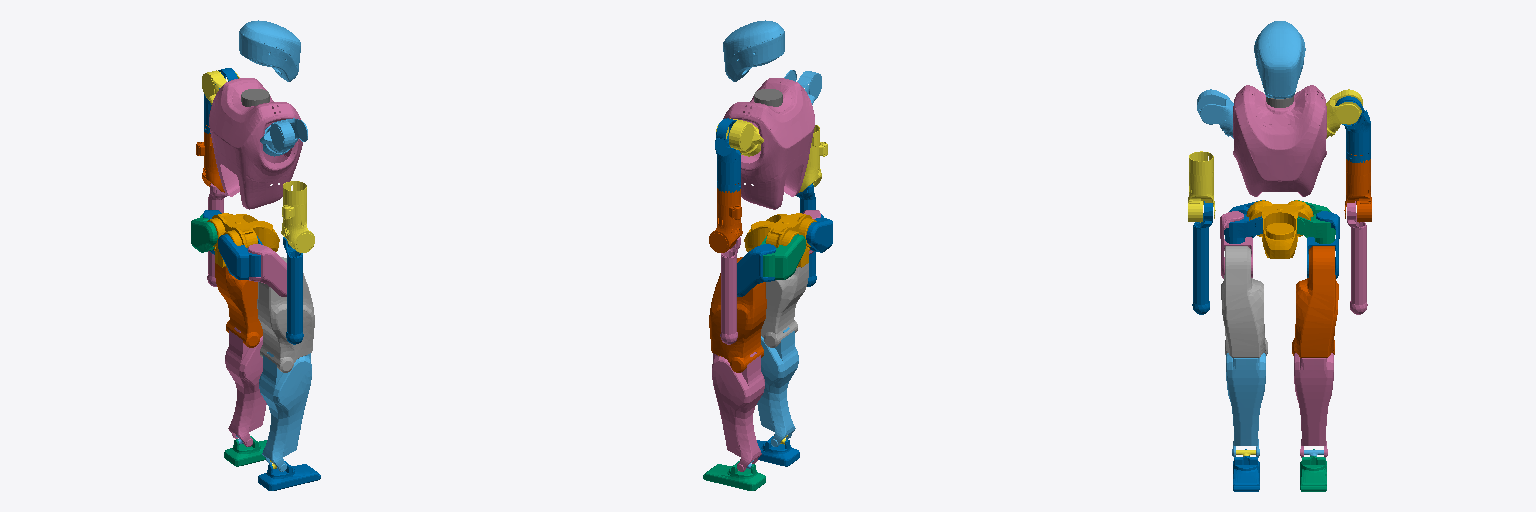
--- Render facts (derived) ---
Views: 3 orthographic renders of the robot side by side, from view 1: azimuth 30°, elevation 25°; view 2: azimuth 150°, elevation 25°; view 3: azimuth 270°, elevation 25°.
Model Alexander with 39 links and 38 joints (23 revolute, 15 fixed), rooted at PELVIS_LINK, posed all joints at 0.
Links seen in each view (by area): view 1: TORSO_LINK, RIGHT_SHIN, RIGHT_THIGH, LEFT_SHIN, HEAD_LINK, LEFT_THIGH, PELVIS_LINK, RIGHT_SHOULDER_Z_LINK, RIGHT_ELBOW_Y_LINK, RIGHT_SHOULDER_Y_LINK, RIGHT_HIP_X_LINK, RIGHT_HIP_Z_LINK (+5 smaller); view 2: TORSO_LINK, LEFT_SHIN, LEFT_THIGH, RIGHT_SHIN, HEAD_LINK, RIGHT_THIGH, PELVIS_LINK, LEFT_ELBOW_Y_LINK, LEFT_SHOULDER_Z_LINK, LEFT_SHOULDER_X_LINK, LEFT_HIP_X_LINK, LEFT_HIP_Z_LINK (+7 smaller); view 3: TORSO_LINK, LEFT_THIGH, RIGHT_THIGH, HEAD_LINK, LEFT_SHIN, RIGHT_SHIN, PELVIS_LINK, LEFT_ELBOW_Y_LINK, RIGHT_ELBOW_Y_LINK, RIGHT_SHOULDER_Z_LINK, LEFT_SHOULDER_Z_LINK, LEFT_SHOULDER_X_LINK (+8 smaller).
Link boxes in pixels (x1=…): TORSO_LINK: x1=209, y1=78, x2=302, y2=209; RIGHT_SHIN: x1=259, y1=352, x2=311, y2=471; RIGHT_THIGH: x1=257, y1=257, x2=314, y2=372; LEFT_SHIN: x1=225, y1=327, x2=266, y2=446; HEAD_LINK: x1=239, y1=20, x2=300, y2=81; LEFT_THIGH: x1=215, y1=263, x2=262, y2=347; PELVIS_LINK: x1=207, y1=213, x2=279, y2=267; RIGHT_SHOULDER_Z_LINK: x1=281, y1=181, x2=314, y2=252; RIGHT_ELBOW_Y_LINK: x1=283, y1=237, x2=303, y2=344; RIGHT_SHOULDER_Y_LINK: x1=260, y1=118, x2=307, y2=156; RIGHT_HIP_X_LINK: x1=218, y1=234, x2=262, y2=279; RIGHT_HIP_Z_LINK: x1=248, y1=244, x2=286, y2=296; TORSO_LINK: x1=723, y1=78, x2=814, y2=209; LEFT_SHIN: x1=712, y1=352, x2=764, y2=471; LEFT_THIGH: x1=709, y1=257, x2=766, y2=372; RIGHT_SHIN: x1=757, y1=327, x2=798, y2=446; HEAD_LINK: x1=723, y1=20, x2=784, y2=81; RIGHT_THIGH: x1=761, y1=263, x2=808, y2=347; PELVIS_LINK: x1=744, y1=213, x2=816, y2=267; LEFT_ELBOW_Y_LINK: x1=720, y1=237, x2=740, y2=344; LEFT_SHOULDER_Z_LINK: x1=709, y1=183, x2=742, y2=252; LEFT_SHOULDER_X_LINK: x1=715, y1=118, x2=740, y2=192; LEFT_HIP_X_LINK: x1=761, y1=234, x2=805, y2=279; LEFT_HIP_Z_LINK: x1=737, y1=244, x2=775, y2=296; TORSO_LINK: x1=1233, y1=85, x2=1326, y2=196; LEFT_THIGH: x1=1292, y1=246, x2=1338, y2=357; RIGHT_THIGH: x1=1221, y1=246, x2=1267, y2=357; HEAD_LINK: x1=1254, y1=21, x2=1305, y2=98; LEFT_SHIN: x1=1294, y1=353, x2=1333, y2=457; RIGHT_SHIN: x1=1226, y1=353, x2=1265, y2=457; PELVIS_LINK: x1=1246, y1=200, x2=1313, y2=258; LEFT_ELBOW_Y_LINK: x1=1347, y1=201, x2=1367, y2=314; RIGHT_ELBOW_Y_LINK: x1=1192, y1=201, x2=1212, y2=314; RIGHT_SHOULDER_Z_LINK: x1=1188, y1=151, x2=1215, y2=222; LEFT_SHOULDER_Z_LINK: x1=1344, y1=154, x2=1371, y2=222; LEFT_SHOULDER_X_LINK: x1=1335, y1=96, x2=1370, y2=162.
Bounding box of the posed robot: 0.3464 × 0.655 × 1.76 m (x, y, z).
Meshes: 21 distinct files referenced, 22 mesh visuals loaded (20 OBJ); not drawn: 1 (reference not matched to a file when rendering).

URDF robot description (Alexander):
<?xml version = "1.0" ?>
<robot name="Alexander">

    <!-- LEFT LEG JOINTS -->
    <joint name="LEFT_HIP_X" type="revolute">
        <origin rpy="0 0 0" xyz="-0.162	0.0595	-0.015"/>
        <axis xyz="1 0 0"/>
        <parent link="PELVIS_LINK"/>
        <child link="LEFT_HIP_X_LINK"/>
        <limit effort="150" lower="-0.3490658504" upper="0.872664626" velocity="9"/>
        <dynamics damping="0.05" friction="0.0"/>
    </joint>
    <joint name="LEFT_HIP_Z" type="revolute">
        <origin rpy="0 0 0" xyz="0.06	0.1	-0.08"/>
        <axis xyz="0 0 1"/>
        <parent link="LEFT_HIP_X_LINK"/>
        <child link="LEFT_HIP_Z_LINK"/>
        <limit effort="60" lower="-0.3490658504" upper="1.0472" velocity="11"/>
        <dynamics damping="0.05" friction="0.0"/>
    </joint>
    <joint name="LEFT_HIP_Y" type="revolute">
        <origin rpy="0 0 0" xyz="0.1045	-0.0573	-0.0525"/>
        <axis xyz="0 1 0"/>
        <parent link="LEFT_HIP_Z_LINK"/>
        <child link="LEFT_THIGH"/>
        <limit effort="200" lower="-2.61799" upper="0.785398" velocity="8"/>
        <dynamics damping="0.05" friction="0.0"/>
    </joint>
    <joint name="LEFT_KNEE_Y" type="revolute">
        <origin rpy="0 0 0" xyz="0	0.018	-0.32"/>
        <axis xyz="0 1 0"/>
        <parent link="LEFT_THIGH"/>
        <child link="LEFT_SHIN"/>
        <limit effort="200" lower="0" upper="2.445206282" velocity="8"/>
        <dynamics damping="0.05" friction="0.0"/>
    </joint>
    <joint name="LEFT_ANKLE_Y" type="revolute">
        <origin rpy="0 0 0" xyz="0	0	-0.41"/>
        <axis xyz="0 1 0"/>
        <parent link="LEFT_SHIN"/>
        <child link="LEFT_ANKLE_Y_LINK"/>
        <limit effort="180" lower="-1.0472" upper="0.523599" velocity="8"/>
        <dynamics damping="0.05" friction="0.0"/>
    </joint>
    <joint name="LEFT_ANKLE_X" type="revolute">
        <origin rpy="0 0 0" xyz="0	0	-0.012"/>
        <axis xyz="1 0 0"/>
        <parent link="LEFT_ANKLE_Y_LINK"/>
        <child link="LEFT_FOOT"/>
        <limit effort="90" lower="-0.436332" upper="0.436332" velocity="8"/>
        <dynamics damping="0.05" friction="0.0"/>
    </joint>

    <!-- RIGHT LEG JOINTS -->
    <joint name="RIGHT_HIP_X" type="revolute">
        <origin rpy="0 0 0" xyz="-0.162	-0.0595	-0.015"/>
        <axis xyz="1 0 0"/>
        <parent link="PELVIS_LINK"/>
        <child link="RIGHT_HIP_X_LINK"/>
        <limit effort="150" lower="-0.872664626" upper="0.3490658504" velocity="9"/>
        <dynamics damping="0.05" friction="0.0"/>
    </joint>
    <joint name="RIGHT_HIP_Z" type="revolute">
        <origin rpy="0 0 0" xyz="0.06	-0.1	-0.08"/>
        <axis xyz="0 0 1"/>
        <parent link="RIGHT_HIP_X_LINK"/>
        <child link="RIGHT_HIP_Z_LINK"/>
        <limit effort="60" lower="-1.0472" upper="0.3490658504" velocity="11"/>
        <dynamics damping="0.05" friction="0.0"/>
    </joint>
    <joint name="RIGHT_HIP_Y" type="revolute">
        <origin rpy="0 0 0" xyz="0.1045	0.0573	-0.0525"/>
        <axis xyz="0 1 0"/>
        <parent link="RIGHT_HIP_Z_LINK"/>
        <child link="RIGHT_THIGH"/>
        <limit effort="200" lower="-2.61799" upper="0.785398" velocity="8"/>
        <dynamics damping="0.05" friction="0.0"/>
    </joint>
    <joint name="RIGHT_KNEE_Y" type="revolute">
        <origin rpy="0 0 0" xyz="0	-0.018	-0.32"/>
        <axis xyz="0 1 0"/>
        <parent link="RIGHT_THIGH"/>
        <child link="RIGHT_SHIN"/>
        <limit effort="200" lower="0" upper="2.445206282" velocity="8"/>
        <dynamics damping="0.05" friction="0.0"/>
    </joint>
    <joint name="RIGHT_ANKLE_Y" type="revolute">
        <origin rpy="0 0 0" xyz="0	0	-0.41"/>
        <axis xyz="0 1 0"/>
        <parent link="RIGHT_SHIN"/>
        <child link="RIGHT_ANKLE_Y_LINK"/>
        <limit effort="180" lower="-1.0472" upper="0.523599" velocity="8"/>
        <dynamics damping="0.05" friction="0.0"/>
    </joint>
    <joint name="RIGHT_ANKLE_X" type="revolute">
        <origin rpy="0 0 0" xyz="0	0	-0.012"/>
        <axis xyz="1 0 0"/>
        <parent link="RIGHT_ANKLE_Y_LINK"/>
        <child link="RIGHT_FOOT"/>
        <limit effort="90" lower="-0.436332" upper="0.436332" velocity="8"/>
        <dynamics damping="0.05" friction="0.0"/>
    </joint>

    <!-- SPINE JOINTS -->
    <joint name="SPINE_Z" type="revolute">
        <origin rpy="0 0 0" xyz="0.0 0 0.018"/> <!-- check with CAD -->
        <axis xyz="0 0 1"/>
        <parent link="PELVIS_LINK"/>
        <child link="TORSO_LINK"/>
        <limit effort="150" lower="-0.5235987756" upper="0.5235987756" velocity="9.0"/>
        <dynamics damping="0.05" friction="0.0"/>
    </joint>

    <!-- LEFT ARM JOINTS -->
    <joint name="LEFT_SHOULDER_Y" type="revolute">
        <origin xyz="-0.015 0.115474 0.352984" rpy="0.698132 0.0 0.0"/>
        <axis xyz="0.0 1.0 0.0"/>
        <parent link="TORSO_LINK"/>
        <child link="LEFT_SHOULDER_Y_LINK"/>
        <limit effort="150.0" lower="-3.141592" upper="1.22173" velocity="9.0"/>
        <dynamics damping="0.05" friction="0.0"/>
    </joint>
    <joint name="LEFT_SHOULDER_X" type="revolute">
        <origin rpy="-0.698132 0.0 0.0" xyz="0.0 0.15676000 -0.01300000"/>
        <axis xyz="1 0 0"/>
        <parent link="LEFT_SHOULDER_Y_LINK"/>
        <child link="LEFT_SHOULDER_X_LINK"/>
        <limit effort="150.0" lower="-0.349066" upper="2.79253" velocity="9.0"/>
        <dynamics damping="0.05" friction="0.0"/>
    </joint>
    <joint name="LEFT_SHOULDER_Z" type="revolute">
        <origin rpy="0.0 0.0 0.0" xyz="0.0 0.035 -0.08"/> <!-- Z translation for elongated upper arm -->
        <axis xyz="0.0 0.0 1.0"/>
        <parent link="LEFT_SHOULDER_X_LINK"/>
        <child link="LEFT_SHOULDER_Z_LINK"/>
        <limit effort="80.0" lower="-1.91986" upper="1.22173" velocity="11.5"/>
        <dynamics damping="0.05" friction="0.0"/>
    </joint>
    <joint name="LEFT_ELBOW_Y" type="revolute">
        <origin rpy="0.0 0.0 0.0" xyz="0.015 0.0 -0.3127"/>
        <axis xyz="0.0 1.0 0.0"/>
        <parent link="LEFT_SHOULDER_Z_LINK"/>
        <child link="LEFT_ELBOW_Y_LINK"/>
        <limit effort="80.0" lower="-2.35619" upper="0.174532925" velocity="11.5"/>
        <dynamics damping="0.05" friction="0.0"/>
    </joint>

    <!-- NECK JOINTS -->
    <joint name="NECK_Z" type="revolute">
        <origin rpy="0 0 0" xyz="-0.015 0 0.450403"/>
        <axis xyz="0 0 1"/>
        <parent link="TORSO_LINK"/>
        <child link="NECK_Z_LINK"/>
        <limit effort="20" lower="-1.5708" upper="1.5708" velocity="20"/>
        <dynamics damping="0.05" friction="0.0"/>
    </joint>
    <joint name="NECK_Y" type="revolute">
        <origin rpy="0 0 0" xyz="0.025 0.01 0.189597"/>
        <axis xyz="0 1 0"/>
        <parent link="NECK_Z_LINK"/>
        <child link="HEAD_LINK"/>
        <limit effort="20" lower="-1.0472" upper="1.0472" velocity="20"/>
        <dynamics damping="0.05" friction="0.0"/>
    </joint>

    <!-- RIGHT ARM JOINTS -->
    <joint name="RIGHT_SHOULDER_Y" type="revolute">
        <origin xyz="-0.015 -0.115474 0.352984" rpy="-0.698132 0.0 0.0"/>
        <axis xyz="0.0 1.0 0.0"/>
        <parent link="TORSO_LINK"/>
        <child link="RIGHT_SHOULDER_Y_LINK"/>
        <limit effort="1000" lower="-3.141592" upper="1.22173" velocity="100"/>
        <dynamics damping="0.05" friction="0.0"/>
    </joint>
    <joint name="RIGHT_SHOULDER_X" type="revolute">
        <origin rpy="0.698132 0.0 0.0" xyz="0.0 -0.15676000 -0.01300000"/>
        <axis xyz="1 0 0"/>
        <parent link="RIGHT_SHOULDER_Y_LINK"/>
        <child link="RIGHT_SHOULDER_X_LINK"/>
        <limit effort="1000" lower="-2.79253" upper="0.349066" velocity="100"/>
        <dynamics damping="0.05" friction="0.0"/>
    </joint>
    <joint name="RIGHT_SHOULDER_Z" type="revolute">
        <origin rpy="0.0 0.0 0.0" xyz="0.0 -0.035 -0.08"/> <!-- Z translation for elongated upper arm -->
        <axis xyz="0.0 0.0 1.0"/>
        <parent link="RIGHT_SHOULDER_X_LINK"/>
        <child link="RIGHT_SHOULDER_Z_LINK"/>
        <limit effort="1000" lower="-1.22173" upper="1.91986" velocity="100"/>
        <dynamics damping="0.05" friction="0.0"/>
    </joint>
    <joint name="RIGHT_ELBOW_Y" type="revolute">
        <origin rpy="0.0 0.0 0.0" xyz="0.015 0.0 -0.3127"/>
        <axis xyz="0.0 1.0 0.0"/>
        <parent link="RIGHT_SHOULDER_Z_LINK"/>
        <child link="RIGHT_ELBOW_Y_LINK"/>
        <limit effort="1000" lower="-2.35619" upper="0.174532925" velocity="100"/>
        <dynamics damping="0.05" friction="0.0"/>
    </joint>

    <!-- LINKS -->
    <link name="PELVIS_LINK">
        <inertial>
            <mass value="9.50083635"/>
            <origin rpy="0 0 0" xyz="-0.08354287 0.00005291 -0.03484828"/>
            <inertia ixx="0.03428688" ixy="0.00001151" ixz="0.00015935" iyy="0.05178848" iyz="0.00004514" izz="0.06001929"/>
        </inertial>
        <visual>
            <geometry>
                <mesh filename="package://alexander_V1_description/meshes/legs/Pelvis.obj"/>
            </geometry>
            <origin rpy="0.0 0.0 0.0" xyz="0.0 0.0 0.0"/>
        </visual>
        <collision name="pelvis_collision">
            <geometry>
                <box size="0.15 0.10 0.12"/>
            </geometry>
            <origin xyz="0.0 0.0 -0.05" rpy="0.0 0.0 0.0"/>
        </collision>
    </link>
    <!-- Pelvis IMU -->
    <joint name="PELVIS_IMU_JOINT" type="fixed">
        <parent link="PELVIS_LINK"/>
        <child link="PELVIS_IMU_LINK"/>
        <origin xyz="-0.08687724 0.01225028 -0.08051472" rpy="-0.01399 -0.013054 1.570796"/>
    </joint>

    <link name="PELVIS_IMU_LINK">
        <inertial>
            <mass value="0.0"/>
            <origin xyz="0 0 0" rpy="0 0 0"/>
            <inertia ixx="0.0" ixy="0.0" ixz="0.0" iyy="0.0" iyz="0.0" izz="0.0"/>
        </inertial>
    </link>

    <gazebo reference="PELVIS_IMU_LINK">
        <sensor name="pelvis_imu" type="imu">
            <always_on>1</always_on>
            <update_rate>1000.0</update_rate>
            <imu>
                <noise>
                    <type>gaussian</type>
                    <rate>
                        <mean>0.0</mean>
                        <stddev>2e-4</stddev>
                        <bias_mean>0.0000075</bias_mean>
                        <bias_stddev>0.0000008</bias_stddev>
                    </rate>
                    <accel>
                        <mean>0.0</mean>
                        <stddev>1.7e-2</stddev>
                        <bias_mean>0.1</bias_mean>
                        <bias_stddev>0.001</bias_stddev>
                    </accel>
                </noise>
            </imu>
        </sensor>
    </gazebo>
    <!-- end pelvis imu -->

    <!-- LEFT LEG LINKS -->
    <link name="LEFT_HIP_X_LINK">
        <inertial>
            <mass value="2.32977961"/>
            <origin rpy="0 0 0" xyz="0.04350911	0.08708606 -0.03525761"/>
            <inertia ixx="0.00467452" ixy="-0.00058626" ixz="0.00013124" iyy="0.00516613" iyz="0.00048141" izz="0.00553124"/>
        </inertial>
        <visual>
            <geometry>
                <mesh filename="package://alexander_V1_description/meshes/legs/LeftHipRollLink.obj"/>
            </geometry>
            <origin rpy="0.0 0.0 0.0" xyz="0.0 0.0 0.0"/>
        </visual>
        <collision name="left_hip_x_collision">
            <geometry>
                <box size="0.02 0.12 0.10"/>
            </geometry>
            <origin rpy="0.0 0.0 0.0" xyz="-0.02 0.02 0.0"/>
        </collision>
    </link>

    <!-- LeftHipRollIMU-->
    <link name="LEFT_HIP_X_IMU_LINK">
        <inertial>
            <mass value="0"/>
            <origin rpy="0 0 0" xyz="0 0 0"/>
            <inertia ixx="0.0" ixy="0.0" ixz="0.0" iyy="0.0" iyz="0.0" izz="0.0"/>
        </inertial>
    </link>
    <joint name="LEFT_HIP_X_IMU_JOINT" type="fixed">
        <origin rpy="-1.570796 0 1.570796" xyz="-0.01922309 0.10145013 -0.01488788"/>
        <axis xyz="0 0 1"/>
        <parent link="LEFT_HIP_X_LINK"/>
        <child link="LEFT_HIP_X_IMU_LINK"/>
    </joint>
    <gazebo reference="LEFT_HIP_X_IMU_JOINT">
        <sensor name="left_hip_x_imu" type="imu">
            <always_on>true</always_on>
            <imu>
                <noise>
                    <type>gaussian</type>
                    <rate>
                        <mean>0</mean>
                        <stddev>0.0002</stddev>
                        <bias_mean>7.5e-06</bias_mean>
                        <bias_stddev>8e-07</bias_stddev>
                    </rate>
                    <accel>
                        <mean>0</mean>
                        <stddev>0.017</stddev>
                        <bias_mean>0.1</bias_mean>
                        <bias_stddev>0.001</bias_stddev>
                    </accel>
                </noise>
            </imu>
        </sensor>
    </gazebo>

    <link name="LEFT_HIP_Z_LINK">
        <inertial>
            <mass value="0.77281362"/>
            <origin rpy="0 0 0" xyz="0.04549595	-0.00525571	-0.00937454"/>
            <inertia ixx="0.00317639" ixy="0.00005807" ixz="0.00080598" iyy="0.00345182" iyz="0.00047441" izz="0.00313245"/>
        </inertial>
        <visual>
            <geometry>
                <mesh filename="package://alexander_V1_description/meshes/legs/LeftHipYawLink.obj"/>
            </geometry>
            <origin rpy="0.0 0.0 0.0" xyz="0 0 0"/>
        </visual>
    </link>
    <link name="LEFT_THIGH">
        <inertial>
            <mass value="7.75"/><!-- CAD Mass 6.31087157 (Hacked April 1 2025 to match IRL Scale of whole robot) -->
            <origin rpy="0 0 0" xyz="0.01417302	0.03268781	-0.10548314"/>
            <inertia ixx="0.09264028" ixy="0.00038532" ixz="0.00916409" iyy="0.09733033" iyz="-0.0043516" izz="0.02803877"/>
        </inertial>
        <visual>
            <geometry>
                <mesh filename="package://alexander_V1_description/meshes/legs/LeftThigh.obj"/>
            </geometry>
            <origin rpy="0.0 0.0 0.0" xyz="0 0 0"/>
        </visual>
        <collision name="left_thigh_collision">
            <geometry>
                <box size="0.16 0.13 0.29"/> <!-- width (X), depth (Y), height (Z) -->
            </geometry>
            <origin rpy="0.0 0.0 0.0" xyz="0.03 0.03 -0.15"/> <!-- Centered along thigh -->
        </collision>
    </link>
    <link name="LEFT_SHIN">
        <inertial>
            <mass value="6.31087157"/><!-- CAD Mass 6.31087157 (Hacked April 1 2025 to match IRL Scale of whole robot) -->
            <origin rpy="0 0 0" xyz="0.03807965	-0.00108105	-0.12410027"/>
            <inertia ixx="0.08823148" ixy="-0.00054706" ixz="-0.00634132" iyy="0.09163264" iyz="0.00002714" izz="0.01569601"/>
        </inertial>
        <visual>
            <geometry>
                <mesh filename="package://alexander_V1_description/meshes/legs/LeftShin.obj"/>
            </geometry>
            <origin rpy="0.0 0.0 0.0" xyz="0 0 0"/>
        </visual>
        <collision name="left_shin_collision">
            <geometry>
                <cylinder radius="0.08" length="0.3"/>  <!-- Adjust based on shin dimensions -->
            </geometry>
            <origin rpy="0.0 0.0 0.0" xyz="0.04 0.0 -0.14"/> <!-- Centered along shin -->
        </collision>
    </link>

    <!-- LeftThighIMU-->
    <link name="LEFT_THIGH_IMU_LINK">
        <inertial>
            <mass value="0"/>
            <origin rpy="0 0 0" xyz="0 0 0"/>
            <inertia ixx="0.0" ixy="0.0" ixz="0.0" iyy="0.0" iyz="0.0" izz="0.0"/>
        </inertial>
    </link>
    <joint name="LEFT_THIGH_IMU_JOINT" type="fixed">
        <origin rpy="1.6947717585 0 1.570796" xyz="0.10004 0.03746 -0.21194"/>
        <axis xyz="0 0 1"/>
        <parent link="LEFT_THIGH"/>
        <child link="LEFT_THIGH_IMU_LINK"/>
    </joint>
    <gazebo reference="LEFT_THIGH_IMU_LINK">
        <sensor name="left_thigh_imu" type="imu">
            <always_on>true</always_on>
            <imu>
                <noise>
                    <type>gaussian</type>
                    <rate>
                        <mean>0</mean>
                        <stddev>0.0002</stddev>
                        <bias_mean>7.5e-06</bias_mean>
                        <bias_stddev>8e-07</bias_stddev>
                    </rate>
                    <accel>
                        <mean>0</mean>
                        <stddev>0.017</stddev>
                        <bias_mean>0.1</bias_mean>
                        <bias_stddev>0.001</bias_stddev>
                    </accel>
                </noise>
            </imu>
        </sensor>
    </gazebo>

    <!-- LeftShinIMU-->
    <link name="LEFT_SHIN_IMU_LINK">
        <inertial>
            <mass value="0"/>
            <origin rpy="0 0 0" xyz="0 0 0"/>
            <inertia ixx="0.0" ixy="0.0" ixz="0.0" iyy="0.0" iyz="0.0" izz="0.0"/>
        </inertial>
    </link>
    <joint name="LEFT_SHIN_IMU_JOINT" type="fixed">
        <origin rpy="1.403695170631842 0 -1.570796" xyz="0.05655120 0.00084826 -0.15664831"/>
        <axis xyz="0 0 1"/>
        <parent link="LEFT_SHIN"/>
        <child link="LEFT_SHIN_IMU_LINK"/>
    </joint>
    <gazebo reference="LEFT_SHIN_IMU_LINK">
        <sensor name="left_shin_imu" type="imu">
            <always_on>true</always_on>
            <imu>
                <noise>
                    <type>gaussian</type>
                    <rate>
                        <mean>0</mean>
                        <stddev>0.0002</stddev>
                        <bias_mean>7.5e-06</bias_mean>
                        <bias_stddev>8e-07</bias_stddev>
                    </rate>
                    <accel>
                        <mean>0</mean>
                        <stddev>0.017</stddev>
                        <bias_mean>0.1</bias_mean>
                        <bias_stddev>0.001</bias_stddev>
                    </accel>
                </noise>
            </imu>
        </sensor>
    </gazebo>

    <link name="LEFT_ANKLE_Y_LINK">
        <inertial>
            <mass value="0.05045632"/>
            <origin rpy="0 0 0" xyz="2.94E-07	2.22E-07	-0.00462997"/>
            <inertia ixx="0.00001733" ixy="2.12E-10" ixz="-1.26E-10" iyy="0.00000714" iyz="-2.02E-11" izz="0.00001851"/>
        </inertial>
        <visual>
            <geometry>
                <mesh filename="package://alexander_V1_description/meshes/legs/AnklePitchLink.obj"/>
            </geometry>
            <origin rpy="0.0 0.0 0.0" xyz="0 0 0"/>
        </visual>
    </link>
    <link name="LEFT_FOOT">
        <inertial>
            <mass value="1.28288609"/>
            <origin rpy="0 0 0" xyz="0.03793372	-0.00000219	-0.0443663"/>
            <inertia ixx="0.00131328" ixy="0.00001057" ixz="0.00036242" iyy="0.00385286" iyz="-0.0000069" izz="0.00406301"/>
        </inertial>
        <visual>
            <geometry>
                <mesh filename="package://alexander_V1_description/meshes/legs/Foot.obj"/>
            </geometry>
            <origin rpy="0.0 0.0 0.0" xyz="0 0 0"/>
        </visual>
        <collision name="left_foot_collision">
            <geometry>
                <box size="0.22 0.1 0.02"/>
            </geometry>
            <origin rpy="0 0 0" xyz="0.05 0 -0.06"/>
        </collision>
    </link>

    <!-- LeftFootIMU-->
    <link name="LEFT_FOOT_IMU_LINK">
        <inertial>
            <mass value="0"/>
            <origin rpy="0 0 0" xyz="0 0 0"/>
            <inertia ixx="0.0" ixy="0.0" ixz="0.0" iyy="0.0" iyz="0.0" izz="0.0"/>
        </inertial>
    </link>
    <joint name="LEFT_FOOT_IMU_JOINT" type="fixed">
        <origin rpy="0 0 1.570796" xyz="-0.03575526 0.01180178 -0.04979705"/>
        <axis xyz="0 0 1"/>
        <parent link="LEFT_FOOT"/>
        <child link="LEFT_FOOT_IMU_LINK"/>
    </joint>
    <gazebo reference="LEFT_FOOT_IMU_LINK">
        <sensor name="left_foot_imu" type="imu">
            <always_on>true</always_on>
            <imu>
                <noise>
                    <type>gaussian</type>
                    <rate>
                        <mean>0</mean>
                        <stddev>0.0002</stddev>
                        <bias_mean>7.5e-06</bias_mean>
                        <bias_stddev>8e-07</bias_stddev>
                    </rate>
                    <accel>
                        <mean>0</mean>
                        <stddev>0.017</stddev>
                        <bias_mean>0.1</bias_mean>
                        <bias_stddev>0.001</bias_stddev>
                    </accel>
                </noise>
            </imu>
        </sensor>
    </gazebo>

    <!-- RIGHT LEG LINKS -->
    <link name="RIGHT_HIP_X_LINK">
        <inertial>
            <mass value="2.32977248"/>
            <origin rpy="0 0 0" xyz="0.04351957	-0.08688935	-0.03525357"/>
            <inertia ixx="0.00467576" ixy="0.00061004" ixz="0.00013038" iyy="0.00516385" iyz="-0.00047381" izz="0.00552901"/>
        </inertial>
        <visual>
            <geometry>
                <mesh filename="package://alexander_V1_description/meshes/legs/RightHipRollLink.obj"/>
            </geometry>
            <origin rpy="0.0 0.0 0.0" xyz="0.0 0.0 0.0"/>
        </visual>
        <collision name="right_hip_x_collision">
            <geometry>
                <box size="0.02 0.12 0.10"/>
            </geometry>
            <origin rpy="0.0 0.0 0.0" xyz="-0.02 -0.02 0.0"/>
        </collision>
    </link>

    <!-- RightHipRollIMU-->
    <link name="RIGHT_HIP_X_IMU_LINK">
        <inertial>
            <mass value="0"/>
            <origin rpy="0 0 0" xyz="0 0 0"/>
            <inertia ixx="0.0" ixy="0.0" ixz="0.0" iyy="0.0" iyz="0.0" izz="0.0"/>
        </inertial>
    </link>
    <joint name="RIGHT_HIP_ROLL_IMU_JOINT" type="fixed">
        <origin rpy="-1.570796 0 1.570796" xyz="-0.01922309 -0.07694987 -0.01488788"/>
        <axis xyz="0 0 1"/>
        <parent link="RIGHT_HIP_X_LINK"/>
        <child link="RIGHT_HIP_X_IMU_LINK"/>
    </joint>
    <gazebo reference="RIGHT_HIP_X_IMU_LINK">
        <sensor name="right_hip_x_imu" type="imu">
            <always_on>true</always_on>
            <imu>
                <noise>
                    <type>gaussian</type>
                    <rate>
                        <mean>0</mean>
                        <stddev>0.0002</stddev>
                        <bias_mean>7.5e-06</bias_mean>
                        <bias_stddev>8e-07</bias_stddev>
                    </rate>
                    <accel>
                        <mean>0</mean>
                        <stddev>0.017</stddev>
                        <bias_mean>0.1</bias_mean>
                        <bias_stddev>0.001</bias_stddev>
                    </accel>
                </noise>
            </imu>
        </sensor>
    </gazebo>

    <link name="RIGHT_HIP_Z_LINK">
        <inertial>
            <mass value="0.77281055"/>
            <origin rpy="0 0 0" xyz="0.04549274	0.00525784	-0.00937505"/>
            <inertia ixx="0.00317639" ixy="-0.00005765" ixz="0.00080587" iyy="0.00345166" iyz="-0.00047466" izz="0.00313223"/>
        </inertial>
        <visual>
            <geometry>
                <mesh filename="package://alexander_V1_description/meshes/legs/RightHipYawLink.obj"/>
            </geometry>
            <origin rpy="0.0 0.0 0.0" xyz="0 0 0"/>
        </visual>
    </link>
    <link name="RIGHT_THIGH">
        <inertial>
            <mass value="7.75"/><!-- CAD Mass 6.31087157 (Hacked April 1 2025 to match IRL Scale of whole robot) -->
            <origin rpy="0 0 0" xyz="0.01411846	-0.03282392	-0.10542795"/>
            <inertia ixx="0.09273162" ixy="-0.00026689" ixz="0.00921343" iyy="0.09738701" iyz="0.00422485" izz="0.02802165"/>
        </inertial>
        <visual>
            <geometry>
                <mesh filename="package://alexander_V1_description/meshes/legs/RightThigh.obj"/>
            </geometry>
            <origin rpy="0.0 0.0 0.0" xyz="0 0 0"/>
        </visual>
        <collision name="right_thigh_collision">
            <geometry>
                <box size="0.16 0.13 0.29"/><!-- width (X), depth (Y), height (Z) -->
            </geometry>
            <origin rpy="0.0 0.0 0.0" xyz="0.03 -0.03 -0.15"/>
        </collision>
    </link>

    <!-- RightThighIMU-->
    <link name="RIGHT_THIGH_IMU_LINK">
        <inertial>
            <mass value="0"/>
            <origin rpy="0 0 0" xyz="0 0 0"/>
            <inertia ixx="0.0" ixy="0.0" ixz="0.0" iyy="0.0" iyz="0.0" izz="0.0"/>
        </inertial>
    </link>
    <joint name="RIGHT_THIGH_IMU_JOINT" type="fixed">
        <origin rpy="1.6947717585 0 1.570796" xyz="0.10003618 -0.033541826 -0.21194191"/>
        <axis xyz="0 0 1"/>
        <parent link="RIGHT_THIGH"/>
        <child link="RIGHT_THIGH_IMU_LINK"/>
    </joint>
    <gazebo reference="RIGHT_THIGH_IMU_LINK">
        <sensor name="right_thigh_imu" type="imu">
            <always_on>true</always_on>
            <imu>
                <noise>
                    <type>gaussian</type>
                    <rate>
                        <mean>0</mean>
                        <stddev>0.0002</stddev>
                        <bias_mean>7.5e-06</bias_mean>
                        <bias_stddev>8e-07</bias_stddev>
                    </rate>
                    <accel>
                        <mean>0</mean>
                        <stddev>0.017</stddev>
                        <bias_mean>0.1</bias_mean>
                        <bias_stddev>0.001</bias_stddev>
                    </accel>
                </noise>
            </imu>
        </sensor>
    </gazebo>

    <link name="RIGHT_SHIN">
        <inertial>
            <mass value="6.31087157"/><!-- CAD Mass 6.31087157 (Hacked April 1 2025 to match IRL Scale of whole robot) -->
            <origin rpy="0 0 0" xyz="0.03807648	0.00113375	-0.12408765"/>
            <inertia ixx="0.08705693" ixy="0.00057277" ixz="-0.00674654" iyy="0.090231" iyz="0.00028332" izz="0.01554032"/>
        </inertial>
        <visual>
            <geometry>
                <mesh filename="package://alexander_V1_description/meshes/legs/RightShin.obj"/>
            </geometry>
            <origin rpy="0.0 0.0 0.0" xyz="0 0 0"/>
        </visual>
        <collision name="right_shin_collision">
            <geometry>
                <cylinder radius="0.08" length="0.3"/>
            </geometry>
            <origin rpy="0 0 0" xyz="0.04 0 -0.14"/> <!-- centered along the shin length -->
        </collision>
    </link>

    <!-- RightShinIMU-->
    <link name="RIGHT_SHIN_IMU_LINK">
        <inertial>
            <mass value="0"/>
            <origin rpy="0 0 0" xyz="0 0 0"/>
            <inertia ixx="0.0" ixy="0.0" ixz="0.0" iyy="0.0" iyz="0.0" izz="0.0"/>
        </inertial>
    </link>
    <joint name="RIGHT_SHIN_IMU_JOINT" type="fixed">
        <origin rpy="1.403695170631842 0 -1.570796" xyz="0.05673025 -0.00875818 -0.15674961"/>
        <axis xyz="0 0 1"/>
        <parent link="RIGHT_SHIN"/>
        <child link="RIGHT_SHIN_IMU_LINK"/>
    </joint>
    <gazebo reference="RIGHT_SHIN_IMU_LINK">
        <sensor name="right_shin_imu" type="imu">
            <always_on>true</always_on>
            <imu>
                <noise>
                    <type>gaussian</type>
                    <rate>
                        <mean>0</mean>
                        <stddev>0.0002</stddev>
                        <bias_mean>7.5e-06</bias_mean>
                        <bias_stddev>8e-07</bias_stddev>
                    </rate>
                    <accel>
                        <mean>0</mean>
                        <stddev>0.017</stddev>
                        <bias_mean>0.1</bias_mean>
                        <bias_stddev>0.001</bias_stddev>
                    </accel>
                </noise>
            </imu>
        </sensor>
    </gazebo>

    <link name="RIGHT_ANKLE_Y_LINK">
        <inertial>
            <mass value="0.05045632"/>
            <origin rpy="0 0 0" xyz="2.94E-07	2.22E-07	-0.00462997"/>
            <inertia ixx="0.00001733" ixy="2.12E-10" ixz="-1.26E-10" iyy="0.00000714" iyz="-2.02E-11" izz="0.00001851"/>
        </inertial>
        <visual>
            <geometry>
                <mesh filename="package://alexander_V1_description/meshes/legs/AnklePitchLink.obj"/>
            </geometry>
            <origin rpy="0.0 0.0 0.0" xyz="0 0 0"/>
        </visual>
    </link>
    <link name="RIGHT_FOOT">
        <inertial>
            <mass value="1.28288609"/>
            <origin rpy="0 0 0" xyz="0.03793372	-0.00000219	-0.0443663"/>
            <inertia ixx="0.00131328" ixy="0.00001057" ixz="0.00036242" iyy="0.00385286" iyz="-0.0000069" izz="0.00406301"/>
        </inertial>
        <visual>
            <geometry>
                <mesh filename="package://alexander_V1_description/meshes/legs/Foot.obj"/>
            </geometry>
            <origin rpy="0.0 0.0 0.0" xyz="0 0 0"/>
        </visual>
        <collision name="right_foot_collision">
            <geometry>
                <box size="0.22 0.1 0.02"/>
            </geometry>
            <origin rpy="0 0 0" xyz="0.05 0 -0.06"/>
        </collision>
    </link>

    <!-- RightFootIMU-->
    <link name="RIGHT_FOOT_IMU_LINK">
        <inertial>
            <mass value="0"/>
            <origin rpy="0 0 0" xyz="0 0 0"/>
            <inertia ixx="0.0" ixy="0.0" ixz="0.0" iyy="0.0" iyz="0.0" izz="0.0"/>
        </inertial>
    </link>
    <joint name="RIGHT_FOOT_IMU_JOINT" type="fixed">
        <origin rpy="0 0 1.570796" xyz="-0.03575526 0.01180178 -0.04979705"/>
        <axis xyz="0 0 1"/>
        <parent link="RIGHT_FOOT"/>
        <child link="RIGHT_FOOT_IMU_LINK"/>
    </joint>
    <gazebo reference="RIGHT_FOOT_IMU_LINK">
        <sensor name="right_foot_imu" type="imu">
            <always_on>true</always_on>
            <imu>
                <noise>
                    <type>gaussian</type>
                    <rate>
                        <mean>0</mean>
                        <stddev>0.0002</stddev>
                        <bias_mean>7.5e-06</bias_mean>
                        <bias_stddev>8e-07</bias_stddev>
                    </rate>
                    <accel>
                        <mean>0</mean>
                        <stddev>0.017</stddev>
                        <bias_mean>0.1</bias_mean>
                        <bias_stddev>0.001</bias_stddev>
                    </accel>
                </noise>
            </imu>
        </sensor>
    </gazebo>

    <!-- SPINE LINKS -->
    <link name="TORSO_LINK">
        <inertial>
            <mass value="7.0081"/> <!-- Original was 4.352, measured mass of whole robot and put delta into this torso mass (08/12/2025 Stefan and Robert)-->
            <origin rpy="0 0 0" xyz="-0.034 0.0 0.297"/>
            <inertia ixx="0.077" ixy="9.64E-06" ixz="0.008" iyy="0.068" iyz="7.24E-06" izz="0.033"/>
        </inertial>
        <visual>
            <geometry>
                <mesh filename="package://alexander_V1_description/meshes/torso.obj"/>
            </geometry>
            <origin rpy="0.0 0.0 0.0" xyz="0.0 0.0 0.105063"/>
        </visual>
        <collision name="torso_collision">
            <geometry>
                <box size="0.275 0.33 0.43"/>
            </geometry>
            <origin xyz="-0.01 0.00 0.3" rpy="0 0 0"/>
        </collision>
    </link>

    <!-- TORSO IMU -->
    <joint name="TORSO_IMU_JOINT" type="fixed">
        <origin rpy="0.0 0.0 -1.5708" xyz="-0.009753 -0.01075 0.373405"/>
        <axis xyz="0 0 1"/>
        <parent link="TORSO_LINK"/>
        <child link="TORSO_IMU_LINK"/>
    </joint>

    <link name="TORSO_IMU_LINK">
        <inertial>
            <mass value="0"/>
            <origin rpy="0 0 0" xyz="0 0 0"/>
            <inertia ixx="0.0" ixy="0.0" ixz="0.0" iyy="0.0" iyz="0.0" izz="0.0"/>
        </inertial>
    </link>

    <gazebo reference="TORSO_IMU_LINK">
        <sensor name="torso_imu" type="imu">
            <always_on>true</always_on>
            <imu>
                <noise>
                    <type>gaussian</type>
                    <rate>
                        <mean>0</mean>
                        <stddev>0.0002</stddev>
                        <bias_mean>7.5e-06</bias_mean>
                        <bias_stddev>8e-07</bias_stddev>
                    </rate>
                    <accel>
                        <mean>0</mean>
                        <stddev>0.017</stddev>
                        <bias_mean>0.1</bias_mean>
                        <bias_stddev>0.001</bias_stddev>
                    </accel>
                </noise>
            </imu>
        </sensor>
    </gazebo>

    <!-- NECK & Head LINKS -->
    <link name="NECK_Z_LINK">
        <inertial>
            <mass value="1.141"/>
            <origin rpy="0 0 0" xyz="0.007143 0.006943 0.109823"/>
            <inertia ixx="0.007475898" ixy="-0.000075723" ixz="-0.000745362" iyy="0.007407578" iyz="-0.000436948" izz="0.00109269"/>
        </inertial>
        <visual>
            <geometry>
                <cylinder radius="0.05" length="0.1"/>
            </geometry>
            <material name="gray">
                <color rgba="0.5 0.5 0.5 1.0"/>
            </material>
            <origin rpy="0.0 0.0 0.0" xyz="0 0 0.0"/>
        </visual>
    </link>
    <link name="HEAD_LINK">
        <inertial>
            <mass value="1.677"/>
            <origin rpy="0 0 0" xyz="0.03237 -0.013568 0.007163"/>
            <inertia ixx="0.006026191" ixy="-0.000197484" ixz="0.001813659" iyy="0.008182071" iyz="-0.000042529" izz="0.00644909"/>
        </inertial>
        <visual>
            <geometry>
                <mesh filename="package://alexander_V1_description/meshes/ALX02_01_A02_HeadLink.obj"/>
            </geometry>
            <origin rpy="0.0 0.0 0.0" xyz="0.0 0.0 0.0"/>
        </visual>
        <collision name="head_collision">
            <origin xyz="0.03237 -0.013568 0.017163" rpy="0 0 0"/>
            <geometry>
                <sphere radius="0.13"/>
            </geometry>
        </collision>
    </link>

    <!-- HEAD IMU -->
    <joint name="HEAD_IMU_JOINT" type="fixed">
        <origin rpy="0.56723 0.0 1.5708 " xyz="0.040556 -0.014155 0.057016"/>
        <axis xyz="0 0 1"/>
        <parent link="HEAD_LINK"/>
        <child link="HEAD_IMU_LINK"/>
    </joint>

    <link name="HEAD_IMU_LINK">
        <inertial>
            <mass value="0"/>
            <origin rpy="0 0 0" xyz="0 0 0"/>
            <inertia ixx="0.0" ixy="0.0" ixz="0.0" iyy="0.0" iyz="0.0" izz="0.0"/>
        </inertial>
    </link>

    <gazebo reference="HEAD_IMU_LINK">
        <sensor name="head_imu" type="imu">
            <always_on>true</always_on>
            <imu>
                <noise>
                    <type>gaussian</type>
                    <rate>
                        <mean>0</mean>
                        <stddev>0.0002</stddev>
                        <bias_mean>7.5e-06</bias_mean>
                        <bias_stddev>8e-07</bias_stddev>
                    </rate>
                    <accel>
                        <mean>0</mean>
                        <stddev>0.017</stddev>
                        <bias_mean>0.1</bias_mean>
                        <bias_stddev>0.001</bias_stddev>
                    </accel>
                </noise>
            </imu>
        </sensor>
    </gazebo>

    <!-- Left Arm -->
    <link name="LEFT_SHOULDER_Y_LINK">
        <inertial>
            <mass value="2.99"/>
            <origin rpy="0 0 0" xyz="-0.00264 0.12135 -0.006824"/>
            <inertia ixx="0.0111046" ixy="0.0002882" ixz="-0.000054" iyy="0.0051699" iyz="0.0009318" izz="0.01176"/>
        </inertial>
        <visual>
            <geometry>
                <mesh filename="package://alexander_V1_description/meshes/cycloidal_arm/LeftShoulderPitchLink.obj"/>
            </geometry>
            <origin rpy="0.0 0.0 0.0" xyz="0.0 0.0 0.0"/>
        </visual>
    </link>
    <link name="LEFT_SHOULDER_X_LINK"> <!-- Using long biceps to match current physical robot -->
        <inertial>
            <mass value="1.17068"/>
            <origin rpy="0 0 0" xyz="0.01053 0.02124 -0.1052690"/>
            <inertia ixx="0.00787035" ixy="1.667e-4" ixz="-0.00075945" iyy="0.00727481" iyz="0.000988837" izz="0.00182144"/>
        </inertial>
        <visual>
            <geometry>
                <mesh filename="package://alexander_V1_description/meshes/cycloidal_arm/LeftShoulderRollLink_longBicep.obj"/>
            </geometry>
            <origin rpy="0.0 0.0 0.0" xyz="0.0 0.0 0.0"/>
        </visual>
    </link>
    <link name="LEFT_SHOULDER_Z_LINK">
        <inertial>
            <mass value="2.91"/>
            <origin rpy="0 0 0" xyz="0.00510403 0.00274 -0.21745"/>
            <inertia ixx="0.0267829" ixy="-0.000011" ixz="0.0015998" iyy="0.0265514" iyz="0.0004426" izz="0.003052"/>
        </inertial>
        <visual>
            <geometry>
                <mesh filename="package://alexander_V1_description/meshes/cycloidal_arm/LeftShoulderYawLink.obj"/>
            </geometry>
            <origin rpy="0.0 0.0 0.0" xyz="0.0 0.0 0.0867"/>
        </visual>
        <collision name="left_shoulder_z_collision">
            <origin xyz="0 0 -0.12" rpy="0 0 0"/>
            <geometry>
                <cylinder radius="0.05" length="0.26"/>
            </geometry>
        </collision>
    </link>
    <link name="LEFT_ELBOW_Y_LINK"> <!-- Using nub forearm to match current physical robot -->
        <inertial>
            <!-- Normal forearm nub -->
            <mass value="0.616"/>
            <origin rpy="0 0 0" xyz="-0.01090935 -0.01147189 -0.10388715"/>
            <inertia ixx="0.00760733" ixy="2.242e-5" ixz="-2.583e-4" iyy="0.00767556" iyz="0.00061995" izz="4.554e-4"/>

            <!-- 12lbs dumbbell -->
            <!--<mass value="5.9"/>-->
            <!--<origin rpy="0 0 0" xyz="0.05 0.0 -0.225"/>-->
            <!--<inertia ixx="0.05" ixy="2.242e-5" ixz="-2.583e-4" iyy="0.015" iyz="0.00061995" izz="0.05" />-->
        </inertial>
        <visual>
            <geometry>
                <mesh filename="package://alexander_V1_description/meshes/cycloidal_arm/LEFT_ELBOW_PITCH_LINK_413mm_LENGTH.obj"/>
            </geometry>
            <origin rpy="0.0 0.0 0.0" xyz="0.0 0.0 0.0"/>
        </visual>
        <collision name="left_elbow_y_collision">
            <origin xyz="-0.013 0.0 -0.24" rpy="0 0 0"/>
            <geometry>
                <cylinder radius="0.033" length="0.34"/>
            </geometry>
        </collision>
    </link>

    <!-- Left arm IMU Information -->
    <link name="LEFT_SHOULDER_Y_IMU_LINK">
        <inertial>
            <mass value="0"/>
            <origin rpy="0 0 0" xyz="0 0 0"/>
            <inertia ixx="0.0" ixy="0.0" ixz="0.0" iyy="0.0" iyz="0.0" izz="0.0"/>
        </inertial>
    </link>
    <!-- LEFT SHOULDER Y IMU Information -->
    <joint name="LEFT_SHOULDER_Y_IMU_JOINT" type="fixed">
        <origin rpy="-1.570796 1.570796 0" xyz="0.0174 0.06944 -0.03025"/>
        <axis xyz="0 0 1"/>
        <parent link="LEFT_SHOULDER_Y_LINK"/>
        <child link="LEFT_SHOULDER_Y_IMU_LINK"/>
    </joint>
    <gazebo reference="LEFT_SHOULDER_Y_IMU_LINK">
        <sensor name="left_shoulder_y_imu" type="imu">
            <always_on>true</always_on>
            <imu>
                <noise>
                    <type>gaussian</type>
                    <rate>
                        <mean>0</mean>
                        <stddev>0.0002</stddev>
                        <bias_mean>7.5e-06</bias_mean>
                        <bias_stddev>8e-07</bias_stddev>
                    </rate>
                    <accel>
                        <mean>0</mean>
                        <stddev>0.017</stddev>
                        <bias_mean>0.1</bias_mean>
                        <bias_stddev>0.001</bias_stddev>
                    </accel>
                </noise>
            </imu>
        </sensor>
    </gazebo>

    <!-- Left Shoulder Yaw IMU -->
    <!-- Note: in CAD this is the left bicep IMU -->
    <link name="LEFT_SHOULDER_Z_IMU_LINK">
        <inertial>
            <mass value="0"/>
            <origin rpy="0 0 0" xyz="0 0 0"/>
            <inertia ixx="0.0" ixy="0.0" ixz="0.0" iyy="0.0" iyz="0.0" izz="0.0"/>
        </inertial>
    </link>
    <joint name="LEFT_SHOULDER_Z_IMU_JOINT" type="fixed">
        <origin rpy="-1.570796 3.1415926 -0.314159" xyz="-0.00763459 -0.0123324 -0.318"/>
        <axis xyz="0 0 1"/>
        <parent link="LEFT_SHOULDER_Z_LINK"/>
        <child link="LEFT_SHOULDER_Z_IMU_LINK"/>
    </joint>
    <gazebo reference="LEFT_SHOULDER_Z_IMU_LINK">
        <sensor name="left_shoulder_z_imu" type="imu">
            <always_on>true</always_on>
            <pose>0 0 0 0 0 0</pose>
            <imu>
                <noise>
                    <type>gaussian</type>
                    <rate>
                        <mean>0</mean>
                        <stddev>0.0002</stddev>
                        <bias_mean>7.5e-06</bias_mean>
                        <bias_stddev>8e-07</bias_stddev>
                    </rate>
                    <accel>
                        <mean>0</mean>
                        <stddev>0.017</stddev>
                        <bias_mean>0.1</bias_mean>
                        <bias_stddev>0.001</bias_stddev>
                    </accel>
                </noise>
            </imu>
        </sensor>
    </gazebo>

    <!-- Right Arm -->
    <link name="RIGHT_SHOULDER_Y_LINK">
        <inertial>
            <mass value="2.99"/>
            <origin rpy="0 0 0" xyz="-0.00264 -0.12135 -0.006824"/>
            <inertia ixx="0.0110394" ixy="-0.0003041" ixz="-0.0000594" iyy="0.0051097" iyz="-0.0009183" izz="0.0116925"/>
        </inertial>
        <visual>
            <geometry>
                <mesh filename="package://alexander_V1_description/meshes/cycloidal_arm/RightShoulderPitchLink.obj"/>
            </geometry>
            <origin rpy="0.0 0.0 0.0" xyz="0.0 0.0 0.0"/>
        </visual>
    </link>
    <link name="RIGHT_SHOULDER_X_LINK"> <!-- Using long biceps to match current physical robot -->
        <inertial>
            <mass value="1.17068"/>
            <origin rpy="0 0 0" xyz="0.01053 -0.02124 -0.1052690"/>
            <inertia ixx="0.00787035" ixy="-1.667e-4" ixz="-0.00075945" iyy="0.00727481" iyz="-0.000988837" izz="0.00182144"/>
        </inertial>
        <visual>
            <geometry>
                <mesh filename="package://alexander_V1_description/meshes/cycloidal_arm/RightShoulderRollLink_longBicep.obj"/>
            </geometry>
            <origin rpy="0.0 0.0 0.0" xyz="0.0 0.0 0.0"/>
        </visual>
    </link>
    <link name="RIGHT_SHOULDER_Z_LINK">
        <inertial>
            <mass value="2.91"/>
            <origin rpy="0 0 0" xyz="0.00524 -0.00274 -0.21745"/>
            <inertia ixx="0.0267829" ixy="0.000011" ixz="0.0015998" iyy="0.0265514" iyz="-0.0004426" izz="0.003052"/>
        </inertial>
        <visual>
            <geometry>
                <mesh filename="package://alexander_V1_description/meshes/cycloidal_arm/RightShoulderYawLink.obj"/>
            </geometry>
            <origin rpy="0.0 0.0 0.0" xyz="0.0 0.0 0.0867"/>
        </visual>
        <collision name="right_shoulder_z_collision">
            <origin xyz="0 0 -0.12" rpy="0 0 0"/>
            <geometry>
                <cylinder radius="0.05" length="0.26"/>
            </geometry>
        </collision>
    </link>
    <link name="RIGHT_ELBOW_Y_LINK"> <!-- Using nub forearm to match current physical robot -->
        <inertial>
            <!-- Normal forearm nub -->
            <mass value="0.616"/>
            <origin rpy="0 0 0" xyz="-0.01090935 0.01147189 -0.10388715"/>
            <inertia ixx="0.00760733" ixy="-2.242e-5" ixz="-2.583e-4" iyy="0.00767556" iyz="-0.00061995" izz="4.554e-4"/>

            <!-- 12lbs dumbbell -->
            <!--<mass value="5.9"/>-->
            <!--<origin rpy="0 0 0" xyz="0.05 0.0 -0.225"/>-->
            <!--<inertia ixx="0.05" ixy="2.242e-5" ixz="-2.583e-4" iyy="0.015" iyz="0.00061995" izz="0.05" />-->
        </inertial>
        <visual>
            <geometry>
                <mesh filename="package://alexander_V1_description/meshes/cycloidal_arm/RIGHT_ELBOW_PITCH_LINK_413mm_LENGTH.obj"/>
            </geometry>
            <origin rpy="0.0 0.0 0.0" xyz="0.0 0.0 0.0"/>
        </visual>
        <collision name="right_elbow_y_collision">
            <origin xyz="-0.013 0.0 -0.24" rpy="0 0 0"/>
            <geometry>
                <cylinder radius="0.033" length="0.34"/>
            </geometry>
        </collision>
    </link>

    <!-- Right arm IMU Information -->
    <!-- Right Shoulder Pitch IMU -->
    <joint name="RIGHT_SHOULDER_Y_IMU_JOINT" type="fixed">
        <origin rpy="1.570796 -1.570796 0" xyz="0.0175 -0.0704 -0.00778"/>
        <axis xyz="0 0 1"/>
        <parent link="RIGHT_SHOULDER_Y_LINK"/>
        <child link="RIGHT_SHOULDER_Y_IMU_LINK"/>
    </joint>
    <link name="RIGHT_SHOULDER_Y_IMU_LINK">
        <inertial>
            <mass value="0"/>
            <origin rpy="0 0 0" xyz="0 0 0"/>
            <inertia ixx="0.0" ixy="0.0" ixz="0.0" iyy="0.0" iyz="0.0" izz="0.0"/>
        </inertial>
    </link>
    <gazebo reference="RIGHT_SHOULDER_Y_IMU_LINK">
        <sensor name="right_shoulder_y_imu" type="imu">
            <always_on>true</always_on>
            <imu>
                <noise>
                    <type>gaussian</type>
                    <rate>
                        <mean>0</mean>
                        <stddev>0.0002</stddev>
                        <bias_mean>7.5e-06</bias_mean>
                        <bias_stddev>8e-07</bias_stddev>
                    </rate>
                    <accel>
                        <mean>0</mean>
                        <stddev>0.017</stddev>
                        <bias_mean>0.1</bias_mean>
                        <bias_stddev>0.001</bias_stddev>
                    </accel>
                </noise>
            </imu>
        </sensor>
    </gazebo>

    <!-- Right Shoulder Yaw IMU -->
    <joint name="RIGHT_SHOULDER_Z_IMU_JOINT" type="fixed">
        <origin rpy="1.570796 0 0.314159" xyz="0.002 0.016 -0.318"/>
        <axis xyz="0 0 1"/>
        <parent link="RIGHT_SHOULDER_Z_LINK"/>
        <child link="RIGHT_SHOULDER_Z_IMU_LINK"/>
    </joint>

    <link name="RIGHT_SHOULDER_Z_IMU_LINK">
        <inertial>
            <mass value="0"/>
            <origin rpy="0 0 0" xyz="0 0 0"/>
            <inertia ixx="0.0" ixy="0.0" ixz="0.0" iyy="0.0" iyz="0.0" izz="0.0"/>
        </inertial>
    </link>

    <gazebo reference="RIGHT_SHOULDER_Z_IMU_LINK">
        <sensor name="right_shoulder_z_imu" type="imu">
            <always_on>true</always_on>
            <imu>
                <noise>
                    <type>gaussian</type>
                    <rate>
                        <mean>0</mean>
                        <stddev>0.0002</stddev>
                        <bias_mean>7.5e-06</bias_mean>
                        <bias_stddev>8e-07</bias_stddev>
                    </rate>
                    <accel>
                        <mean>0</mean>
                        <stddev>0.017</stddev>
                        <bias_mean>0.1</bias_mean>
                        <bias_stddev>0.001</bias_stddev>
                    </accel>
                </noise>
            </imu>
        </sensor>
    </gazebo>
</robot>
